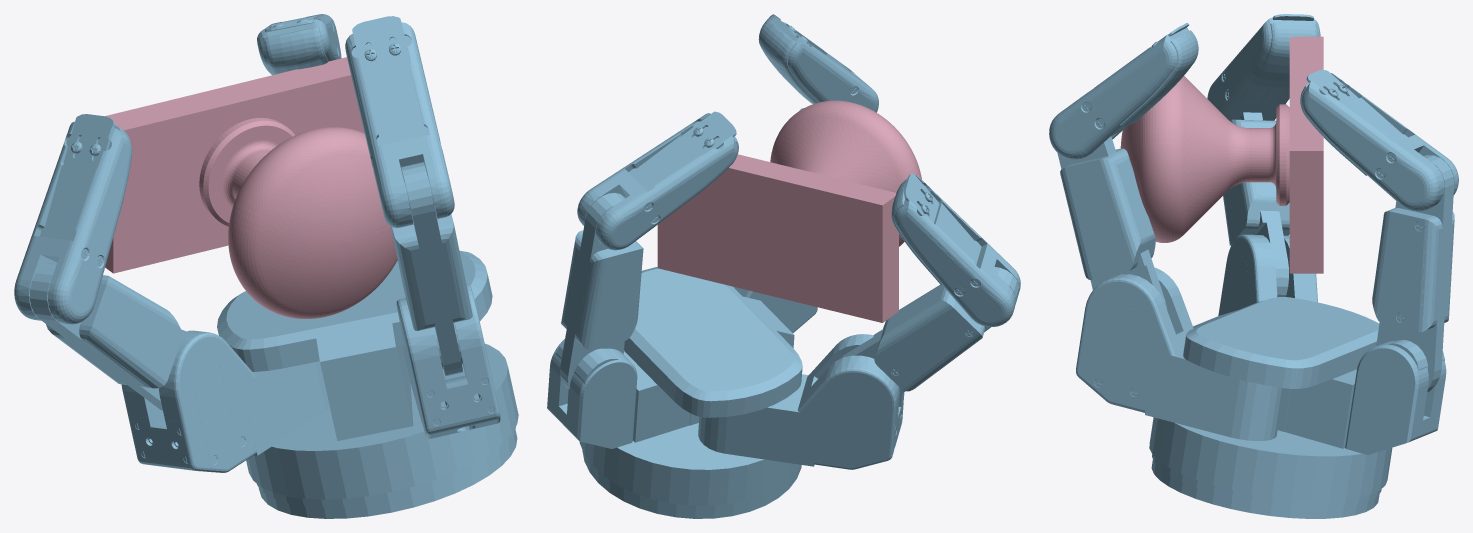
3 views of the same model, side by side, from view 1: azimuth 30°, elevation 25°; view 2: azimuth 150°, elevation 25°; view 3: azimuth 270°, elevation 25° (orthographic). The views are drawn at different scales.
Parts seen in each view (by area): view 1: world; view 2: world; view 3: world.
Part boxes in pixels (<box>): world: <box>14,14,518,518</box>; world: <box>547,14,1020,518</box>; world: <box>1049,14,1458,518</box>.
Size of the model in its own units: 0.1833 by 0.1854 by 0.1513.
